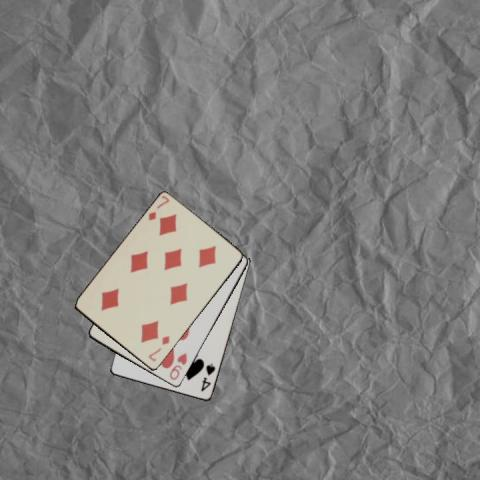4s: (198, 361, 217, 393)
7d: (146, 334, 172, 364), (145, 193, 171, 222)
9h: (167, 350, 188, 382)
